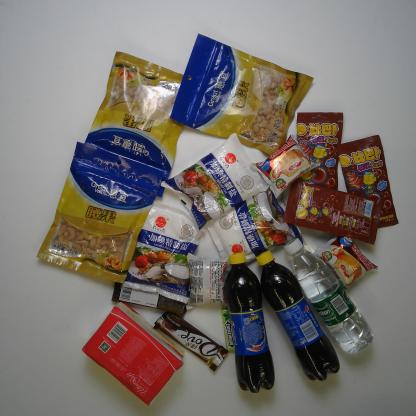Candy: (283, 178, 382, 245), (336, 134, 400, 229), (295, 111, 344, 191)
Chocolate: (153, 310, 228, 372), (111, 281, 190, 319)
Dessert: (250, 133, 322, 200), (311, 233, 379, 292), (184, 252, 230, 310)
Dried Fruit: (35, 141, 167, 285), (170, 32, 314, 158), (81, 50, 193, 199)
Drink: (254, 249, 340, 383), (283, 237, 375, 355), (224, 251, 275, 394)
Gum: (221, 308, 236, 353)
Seasoner: (159, 132, 271, 232), (205, 184, 308, 272), (121, 198, 203, 304)
Tissue: (81, 302, 186, 407)
